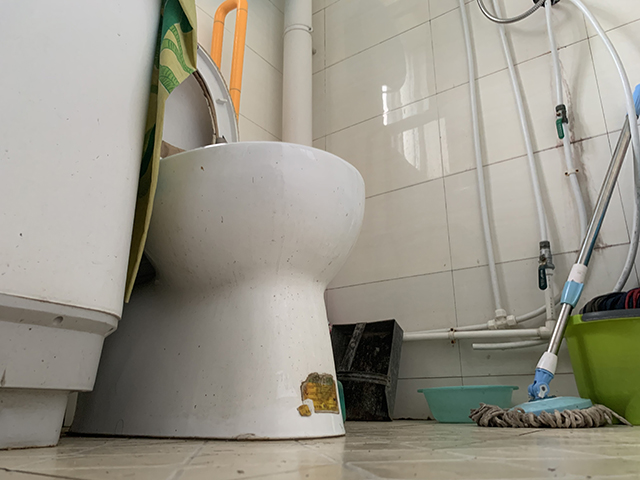closestool: (66, 40, 367, 442)
